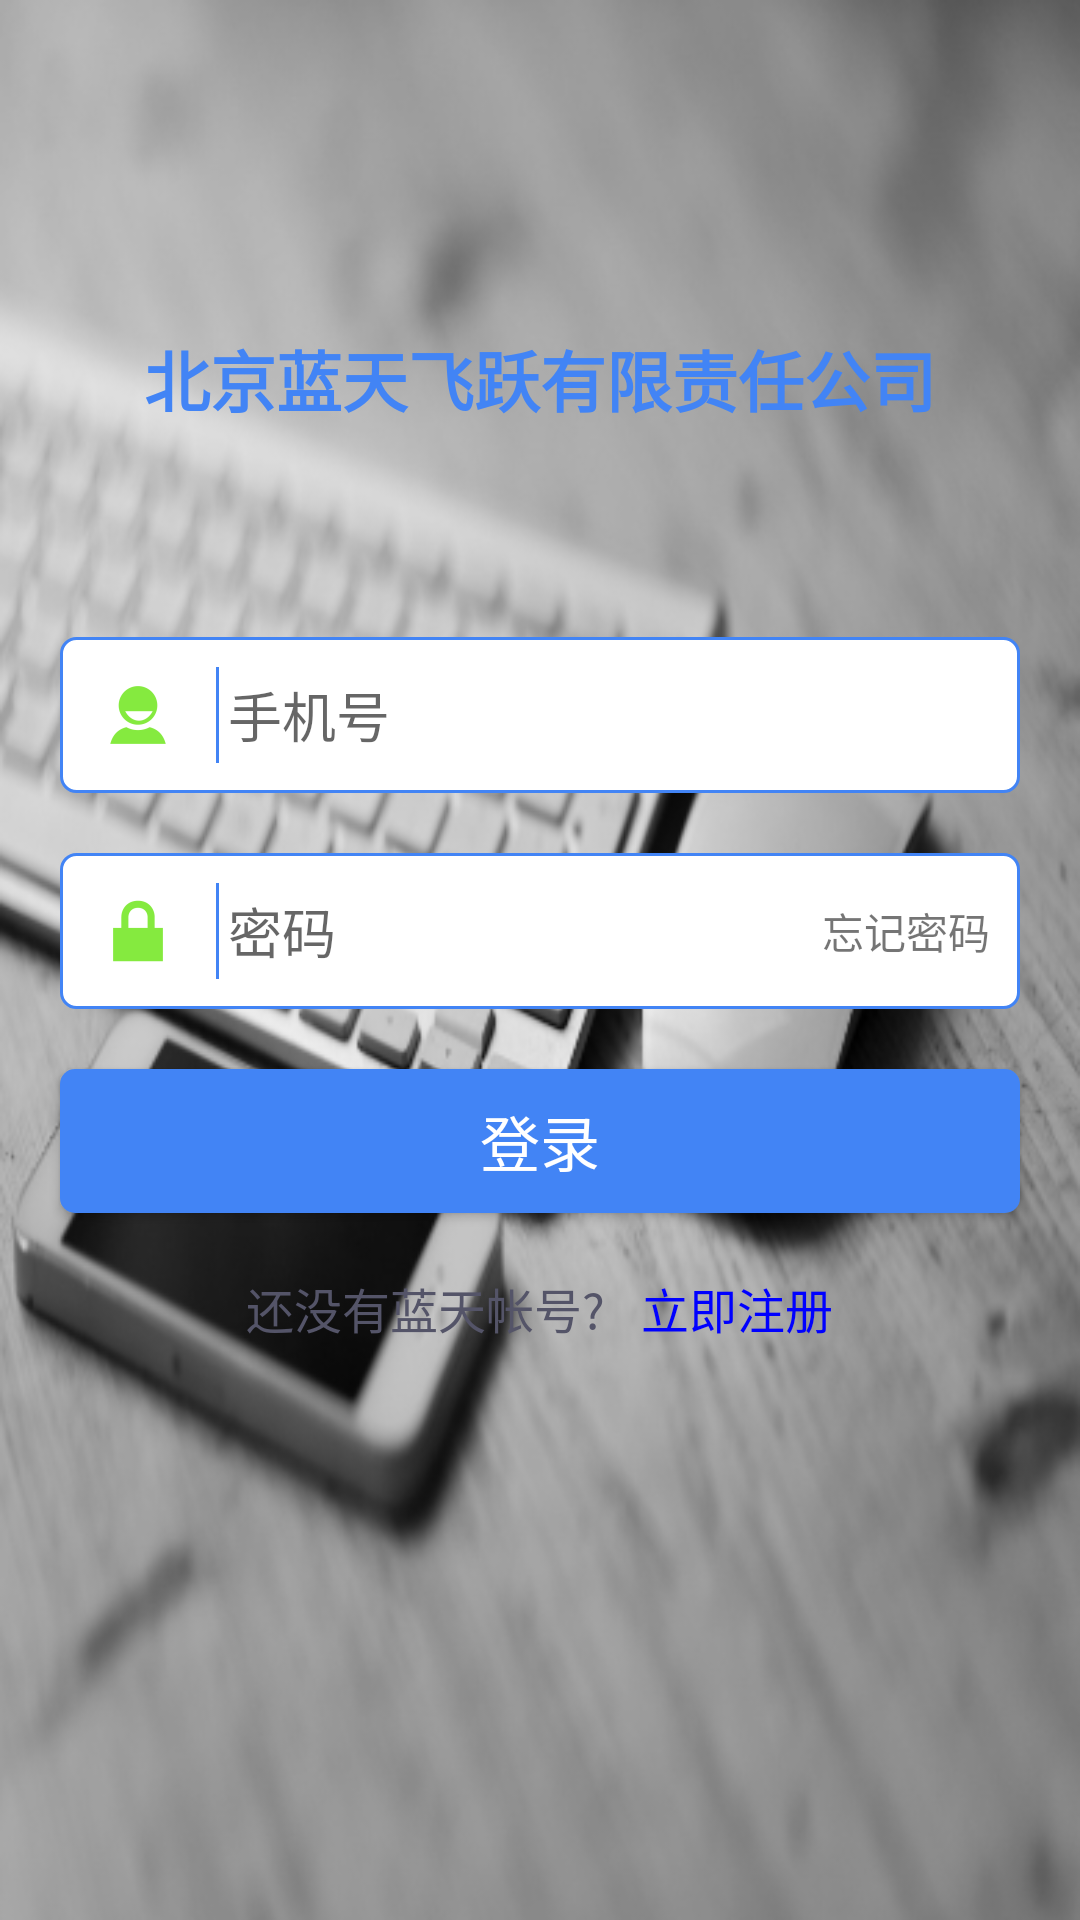

Icon click points for this 1080 × 1920 phone screenshot, format (x=x, y=y):
lock: (x=138, y=931)
